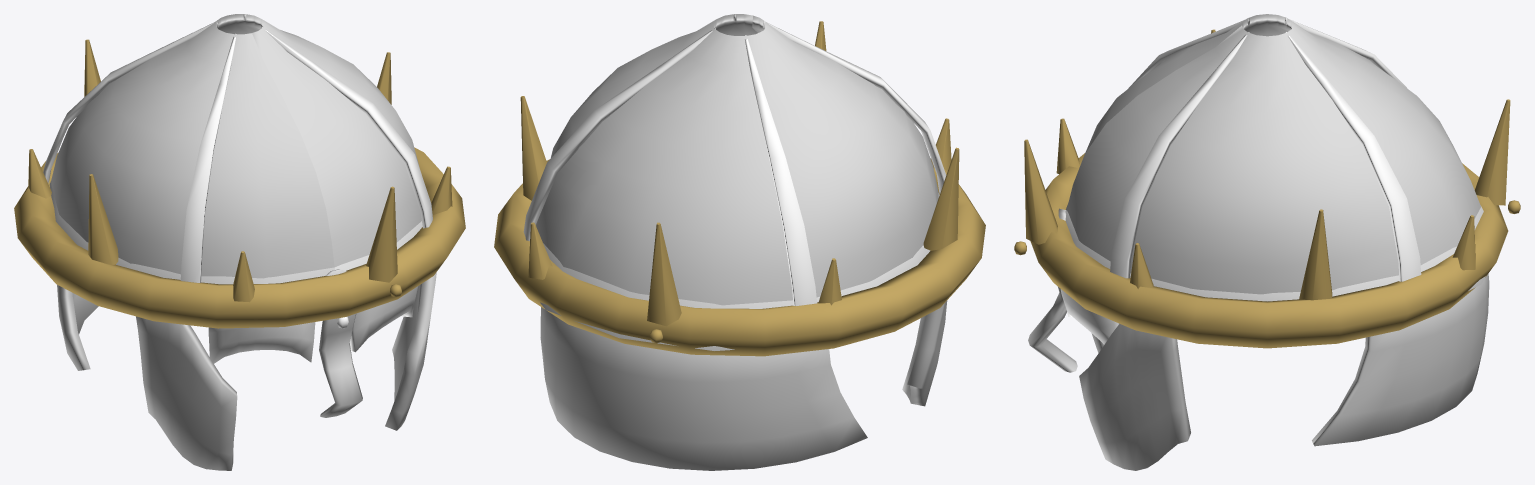
The model's file is helm-runekeeper-crowned.glb.
3 renders of one model, left to right at view 1: azimuth 30°, elevation 25°; view 2: azimuth 150°, elevation 25°; view 3: azimuth 270°, elevation 25°, orthographic. The views are drawn at different scales.
Visible parts, largest first — view 1: helm-runekeeper-crowned; view 2: helm-runekeeper-crowned; view 3: helm-runekeeper-crowned.
Boxes of the visible parts, left/top/right/bottom form: helm-runekeeper-crowned: left=14, top=14, right=465, bottom=470; helm-runekeeper-crowned: left=494, top=14, right=985, bottom=470; helm-runekeeper-crowned: left=1014, top=14, right=1520, bottom=470.
Size of the model in its own units: 0.2745 by 0.2475 by 0.2885.
